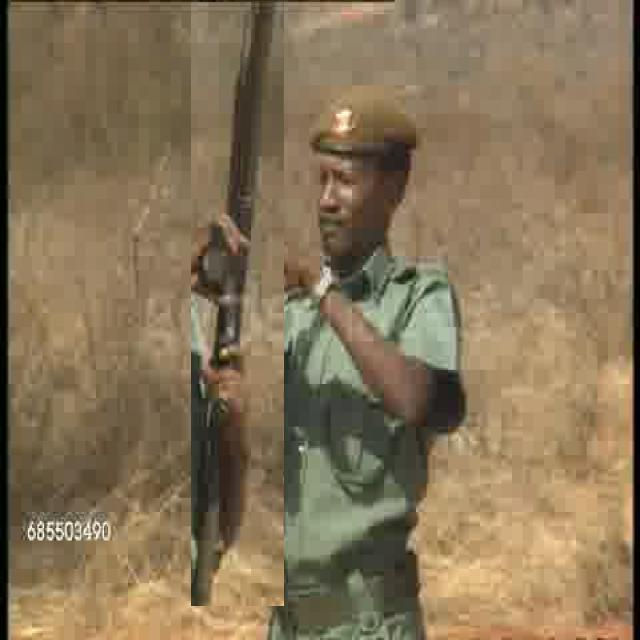poacher: (286, 66, 458, 357)
weapon: (191, 2, 284, 606)
